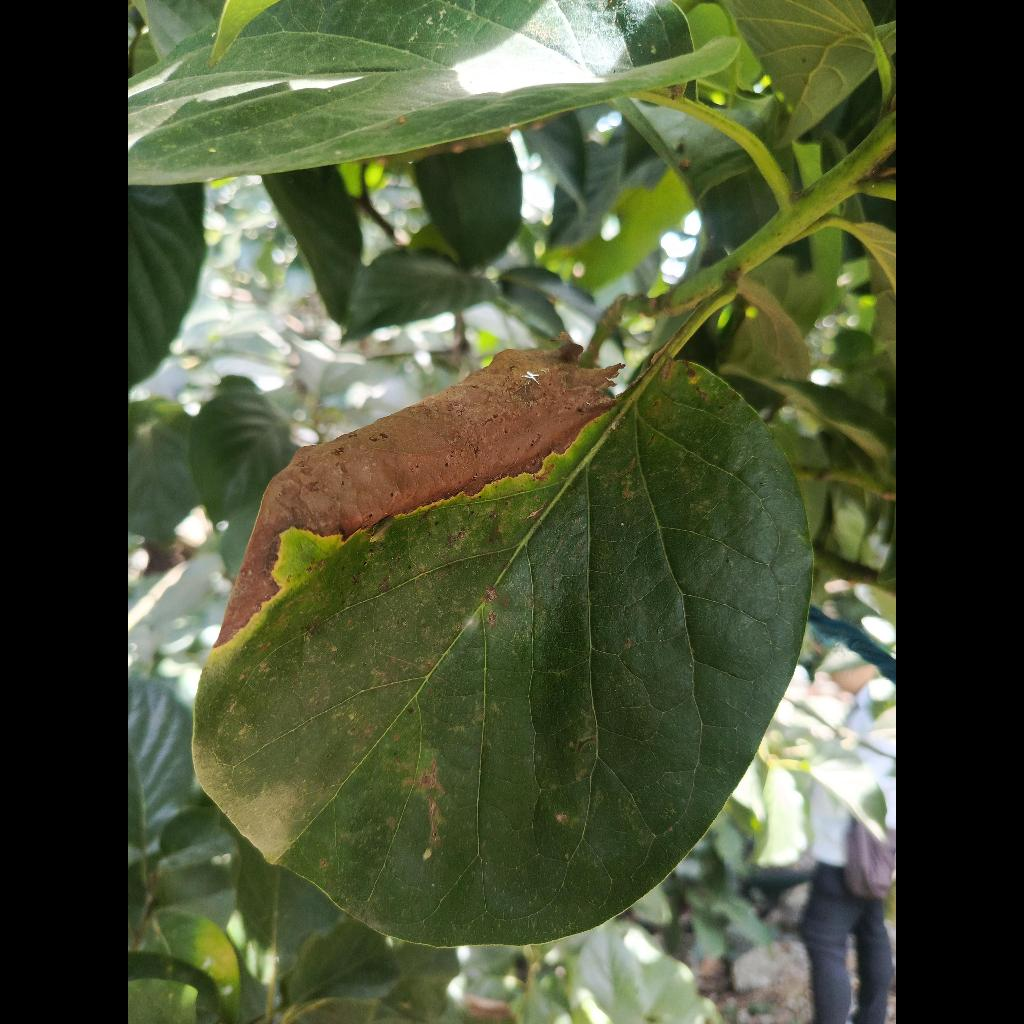antracnosis_hoja: (194, 345, 812, 946)
